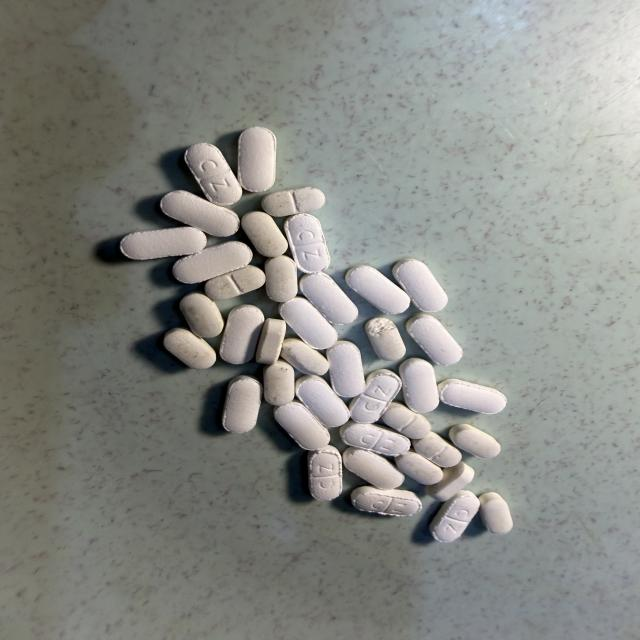pill: (160, 190, 239, 237), (185, 144, 242, 205), (173, 241, 252, 283), (346, 266, 410, 314), (279, 297, 337, 349), (300, 272, 358, 324), (392, 259, 447, 312), (406, 313, 462, 364), (350, 369, 401, 423), (120, 227, 206, 259), (274, 401, 330, 450), (296, 376, 349, 427), (285, 214, 330, 273), (220, 305, 264, 364), (343, 447, 404, 489), (430, 491, 480, 542), (238, 127, 276, 192), (340, 421, 410, 456), (438, 379, 506, 414), (222, 375, 262, 433), (399, 358, 439, 413), (326, 341, 365, 397), (241, 212, 288, 257), (164, 328, 216, 368), (351, 487, 422, 516), (205, 265, 265, 299), (180, 292, 223, 337), (426, 462, 474, 501), (308, 446, 342, 500), (262, 187, 325, 216), (382, 402, 431, 438), (449, 424, 500, 458), (281, 339, 329, 375), (413, 432, 461, 467), (365, 318, 405, 360), (395, 451, 443, 485), (265, 255, 297, 302), (479, 492, 513, 534), (264, 360, 294, 405), (256, 319, 285, 364)
